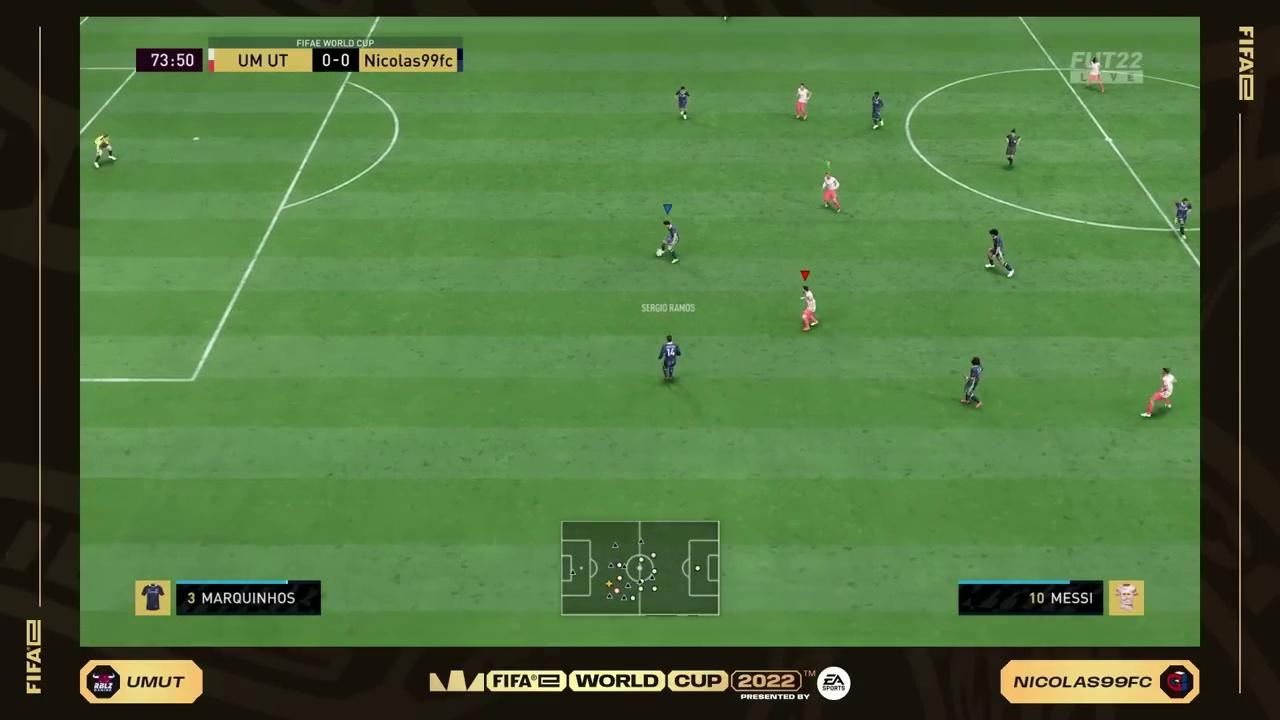scoreboard: (210, 47, 464, 77)
timestamp: (134, 48, 204, 76)
